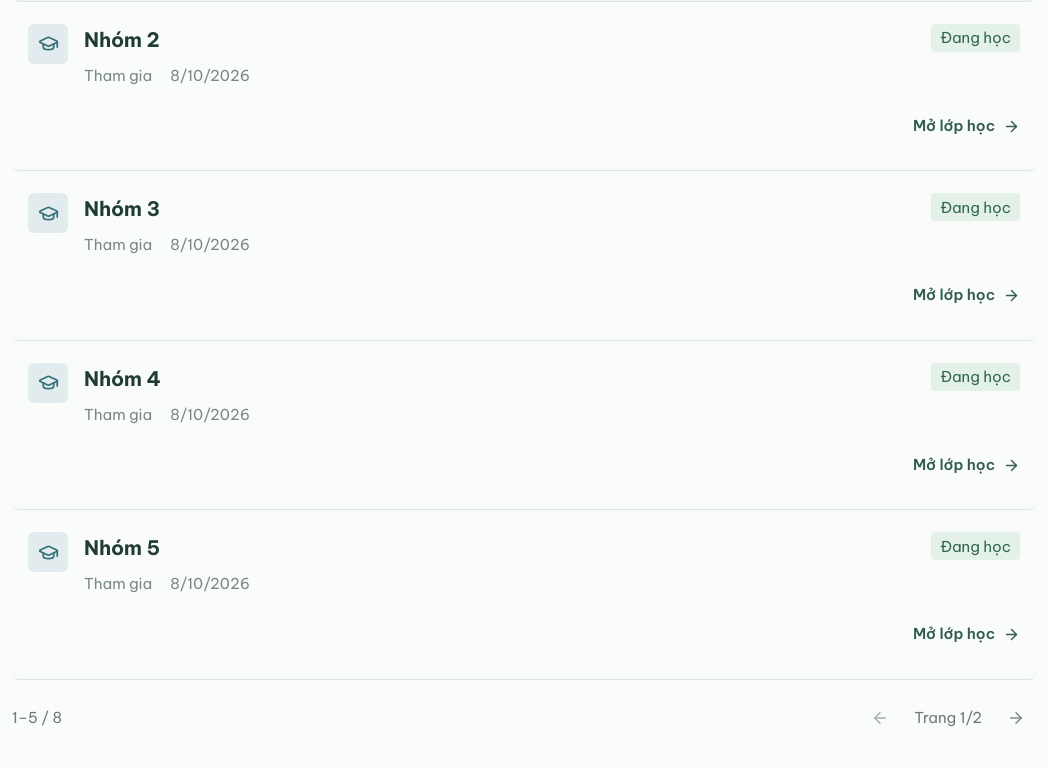
student course classrooms › paginates many classes and searches on the first result page
The image size is (1048, 768).
(page scrolled)
Click the button named "Trang lớp sau" at (1016, 718), box x1=996 y1=698 x2=1036 y2=738
(page scrolled)
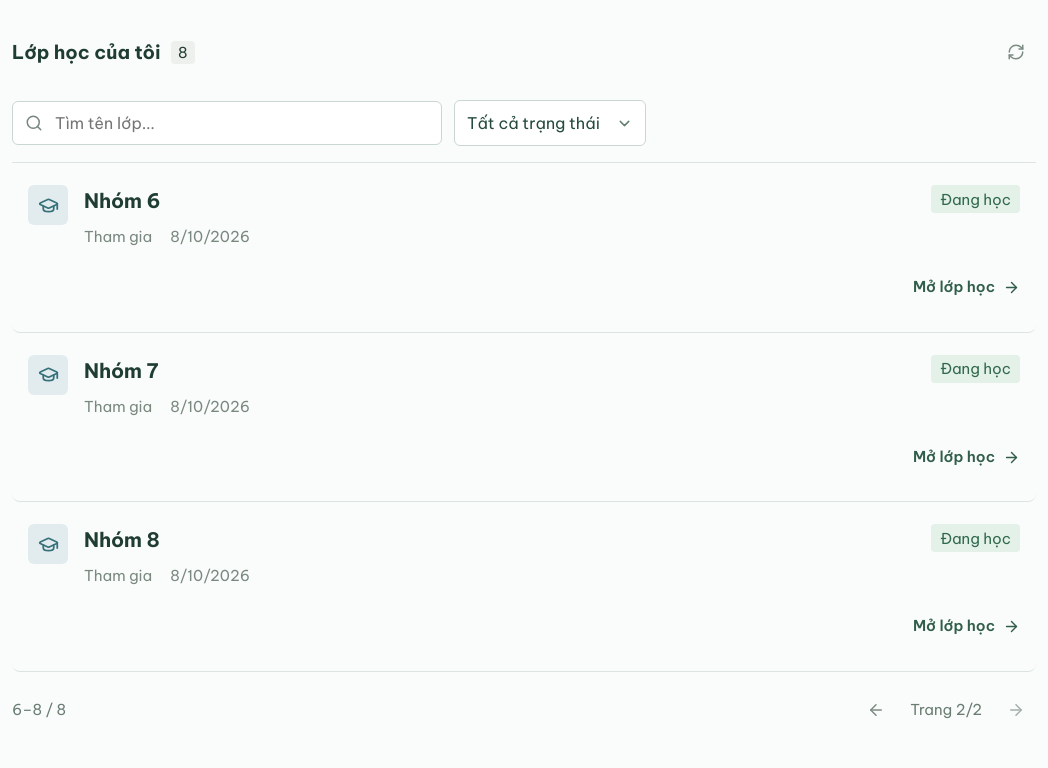
Type "Nhóm 1" into the search field named "Tìm lớp trong khóa học" at (241, 123), box x1=53 y1=102 x2=429 y2=144
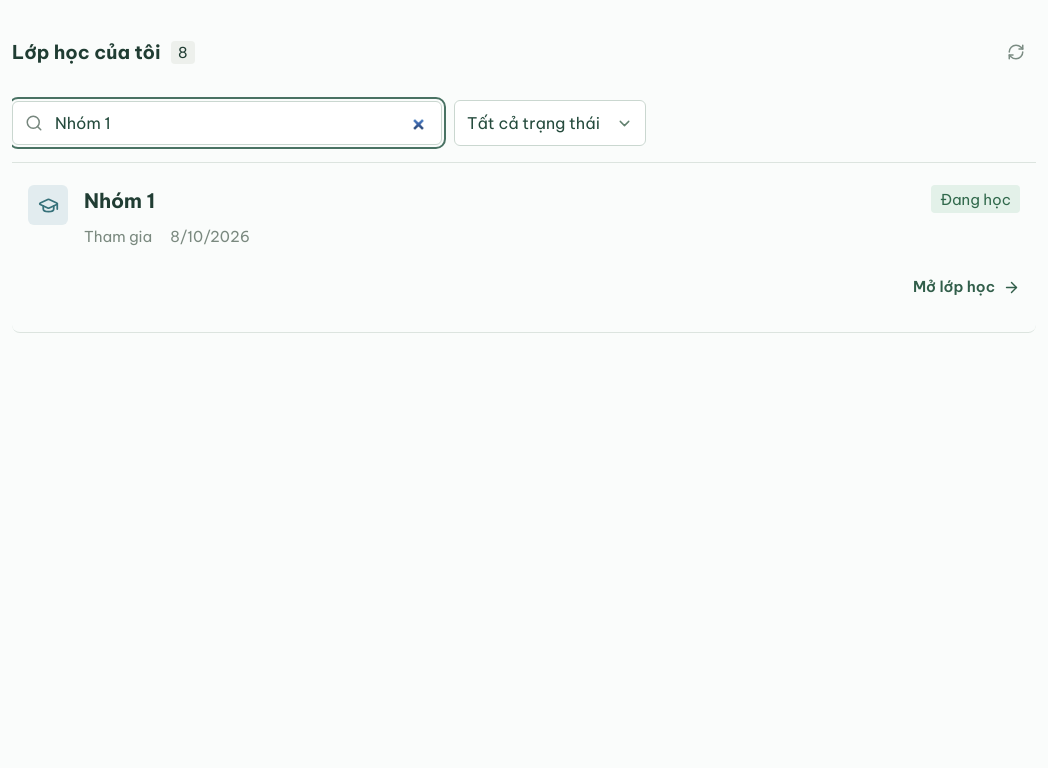
Expected: the heading "Nhóm 1" is shown, x1=84 y1=188 x2=155 y2=213
